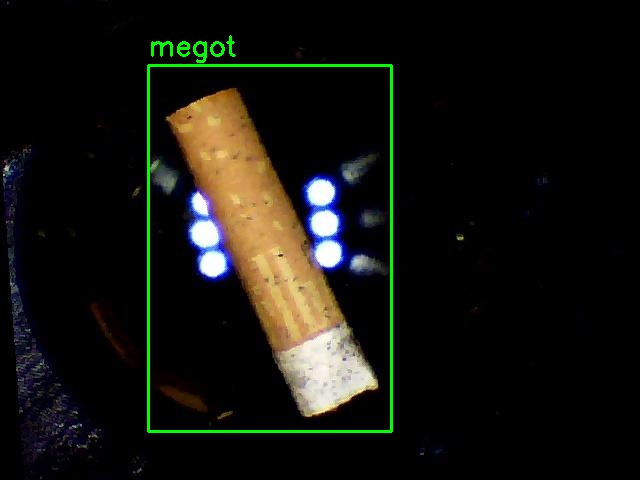megot: (148, 65, 391, 431)
